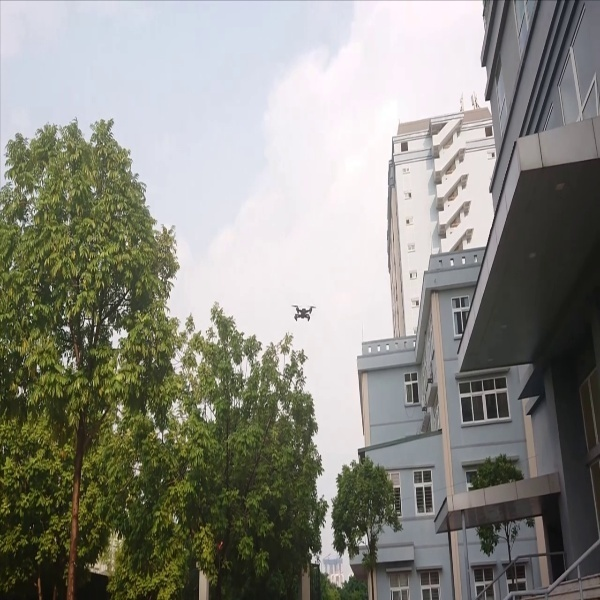drone: (286, 296, 319, 328)
